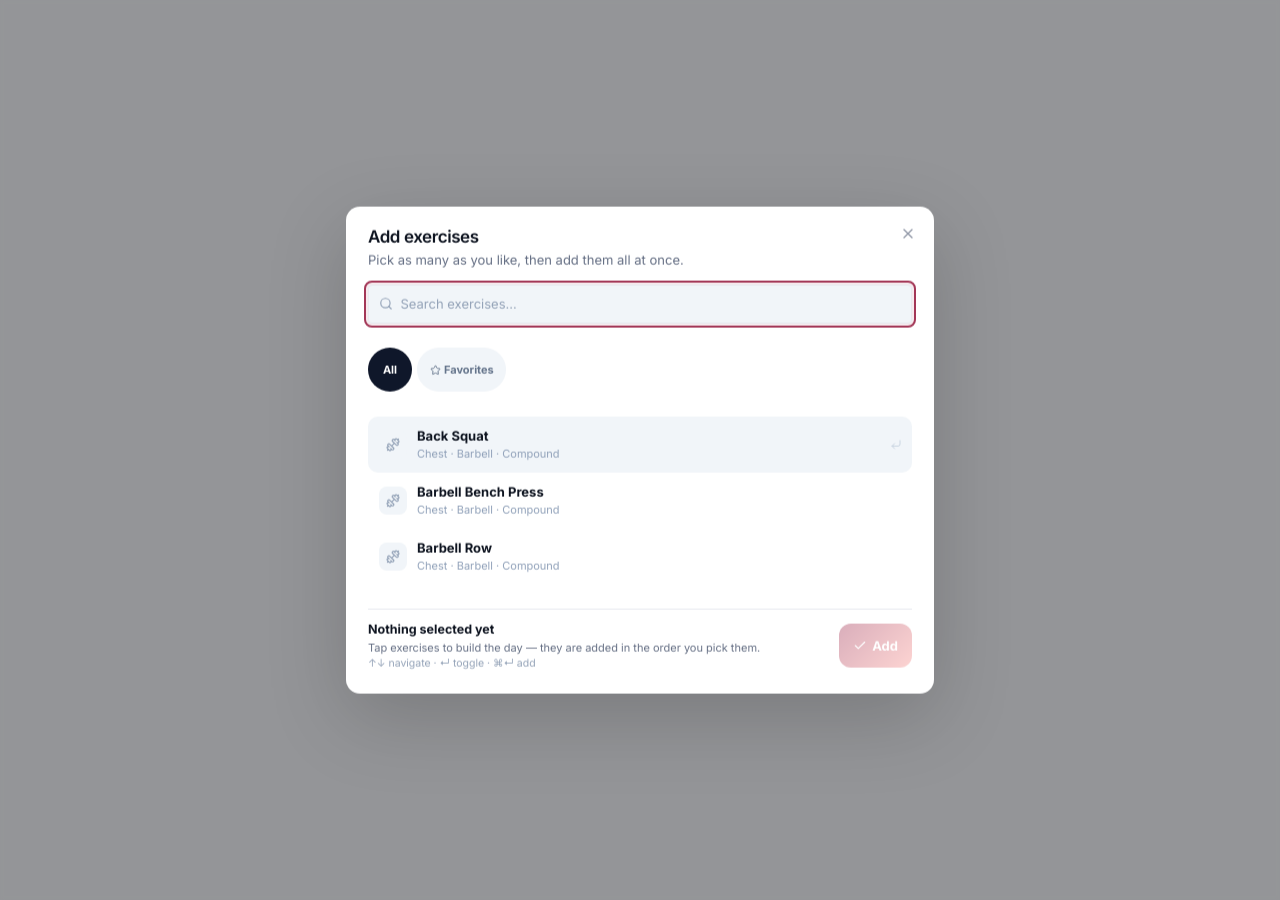
Test: selecting does not close the dialog › toggles a second click off again
Click the button "Back Squat chest · barbell · compound" at (453, 435), box left=368, top=416, right=912, bottom=472
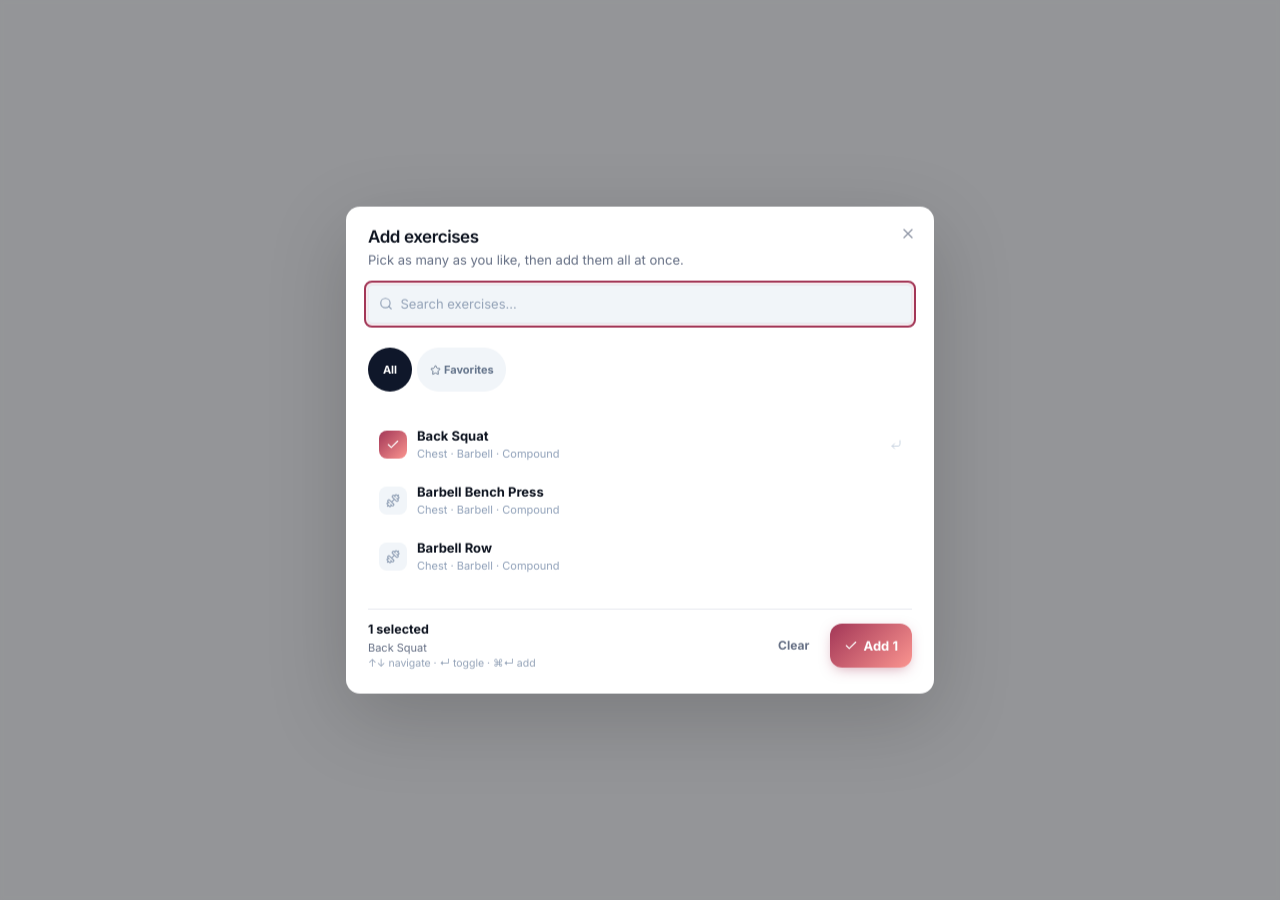
Click the button "Back Squat chest · barbell · compound" at (453, 435), box left=368, top=416, right=912, bottom=472
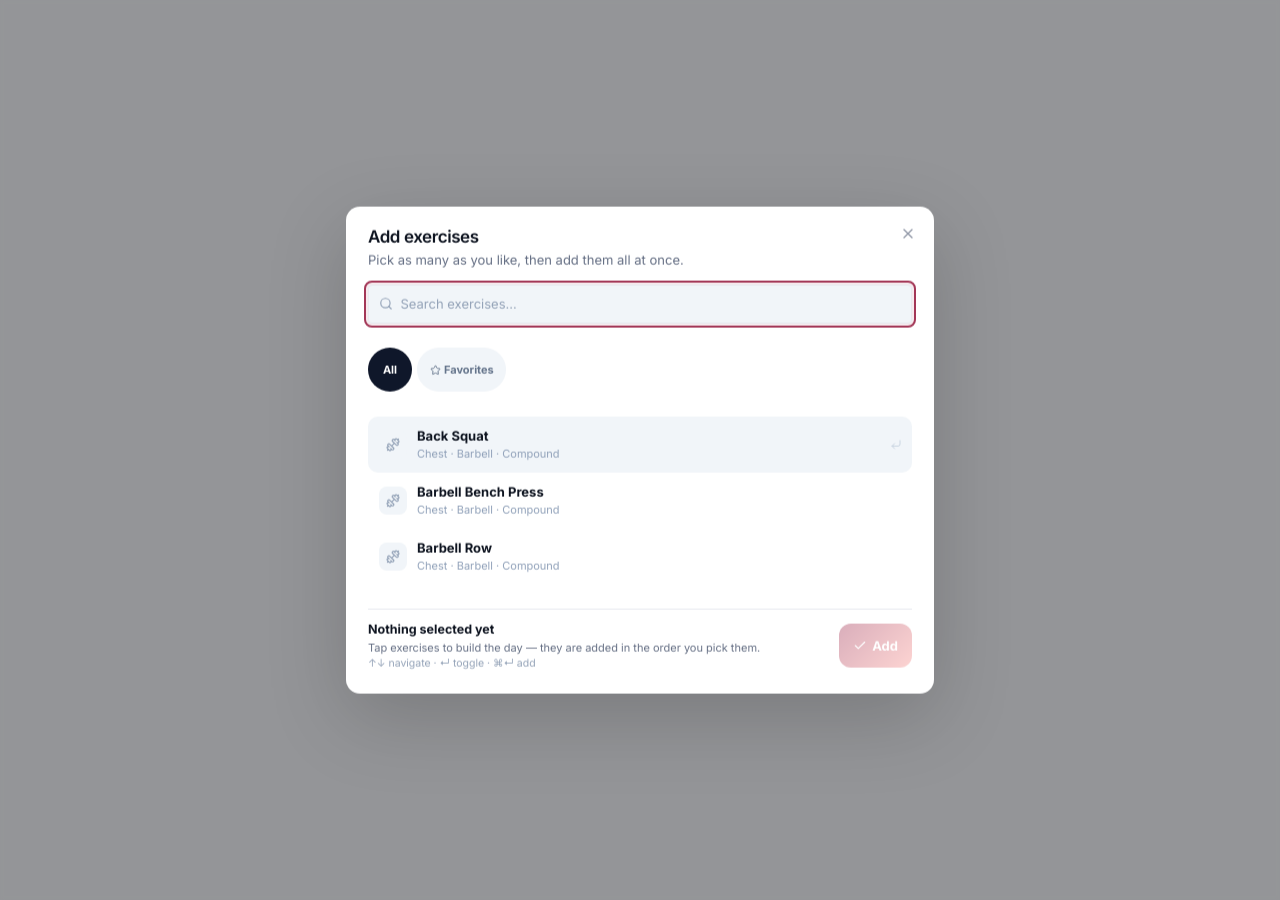
expect the button "Add" is disabled: met, box left=839, top=624, right=912, bottom=668
